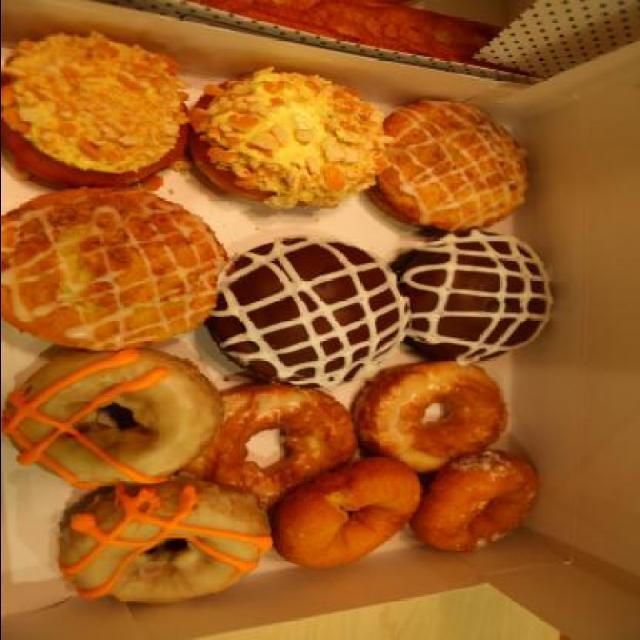Bagel: (354, 358, 508, 473)
